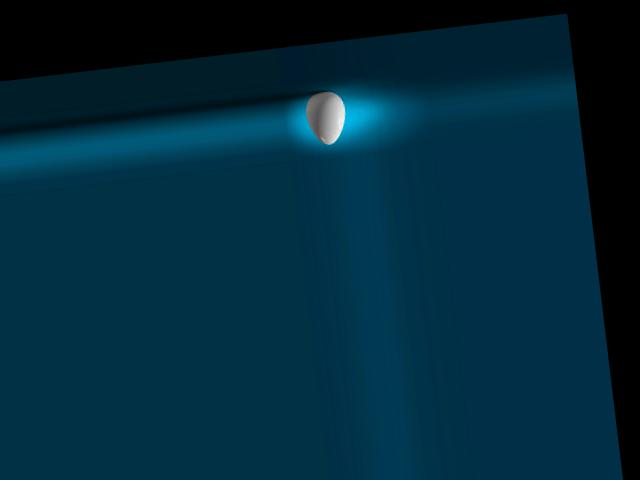egg: (302, 88, 348, 146)
